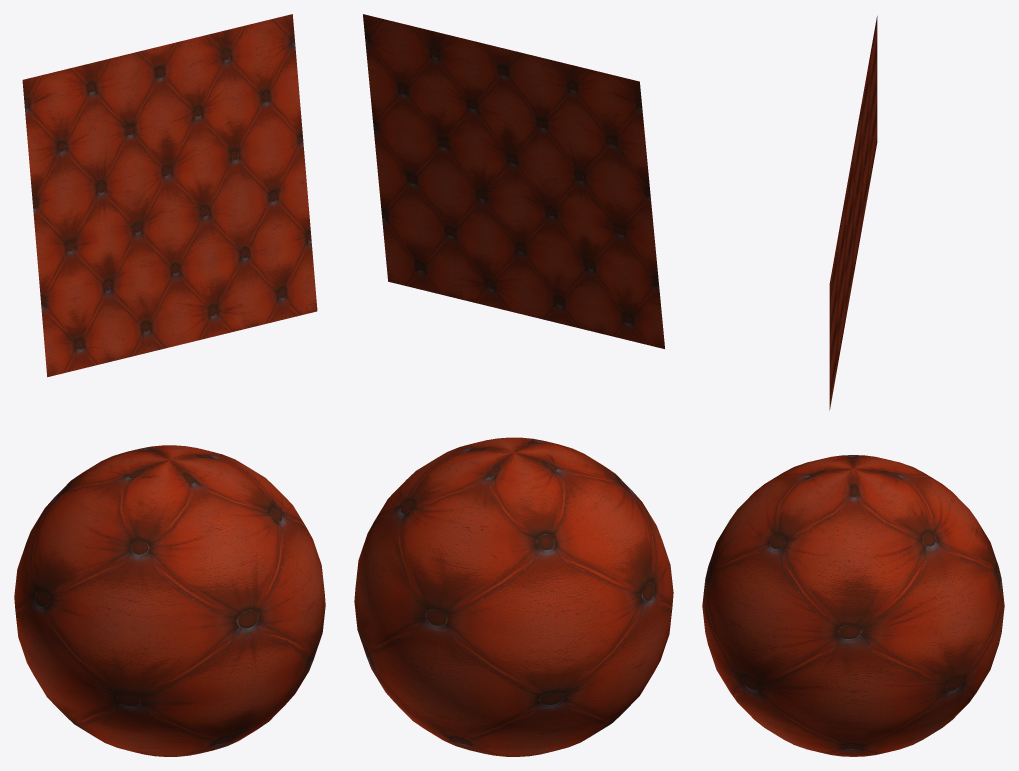
Rendered from LeatherBall.obj.
The picture shows the model from 3 angles, left to right: view 1: azimuth 30°, elevation 25°; view 2: azimuth 150°, elevation 25°; view 3: azimuth 270°, elevation 25°; orthographic projection. The views are drawn at different scales.
Visible parts, largest first — view 1: Plane, Sphere; view 2: Sphere, Plane; view 3: Sphere, Plane.
Boxes of the visible parts, <box> form: Plane: <box>22,14,317,377</box>; Sphere: <box>14,445,325,756</box>; Sphere: <box>354,437,673,756</box>; Plane: <box>363,14,664,348</box>; Sphere: <box>702,455,1004,756</box>; Plane: <box>829,16,877,410</box>.
Bounding box in the file's own units: 2 × 4.85 × 2.
1 material, 1 textured.
